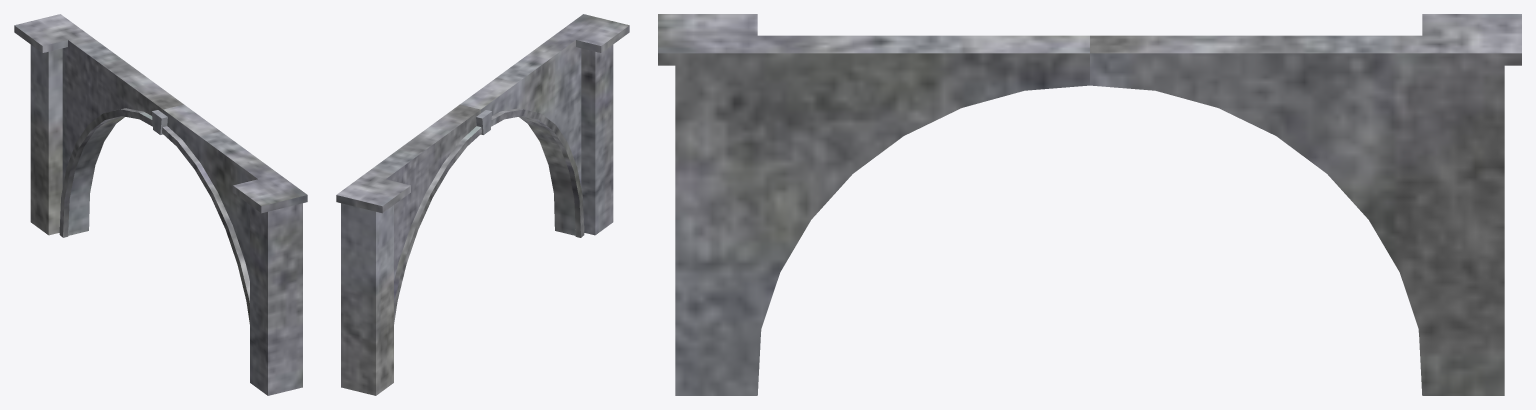
The model's file is arch.fbx.
3 views of the same model, side by side, from view 1: azimuth 30°, elevation 25°; view 2: azimuth 150°, elevation 25°; view 3: azimuth 270°, elevation 25° (orthographic). The views are drawn at different scales.
Parts seen in each view (by area): view 1: Arch; view 2: Arch; view 3: Arch.
Boxes of the visible parts, x1=… form: Arch: x1=14, y1=14, x2=307, y2=395; Arch: x1=336, y1=14, x2=629, y2=395; Arch: x1=658, y1=14, x2=1521, y2=395.
Bounding box in the file's own units: 110 × 447 × 1018.
